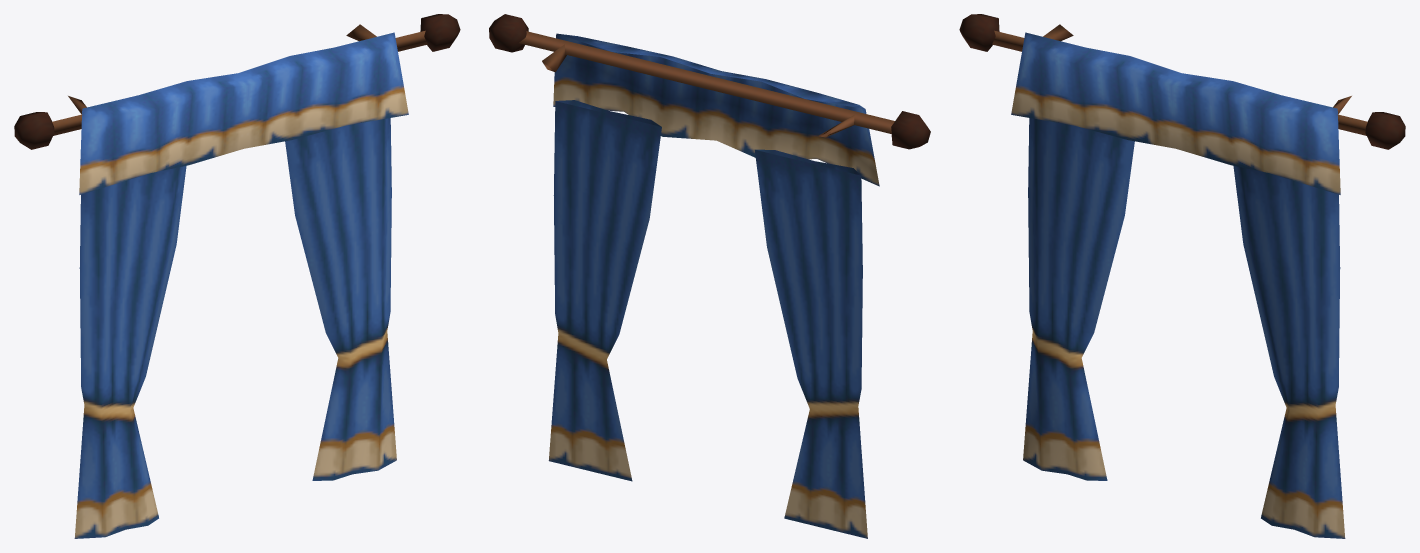
The model's file is WAL0110005.FBX.
3 renders of one model, left to right at view 1: azimuth 30°, elevation 25°; view 2: azimuth 150°, elevation 25°; view 3: azimuth 330°, elevation 25°, orthographic.
Visible parts, largest first — view 1: smWAL0110005; view 2: smWAL0110005; view 3: smWAL0110005.
Part boxes in pixels (x1,y1,x2,y2): smWAL0110005: (14, 14, 460, 538); smWAL0110005: (489, 14, 930, 538); smWAL0110005: (959, 14, 1405, 538).
Bounding box in the file's own units: 1.89 × 1.81 × 0.2763.
Materials: 1 (1 with a texture image).
